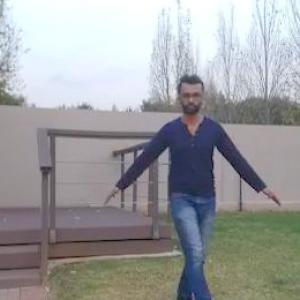land: (119, 76, 261, 299)
